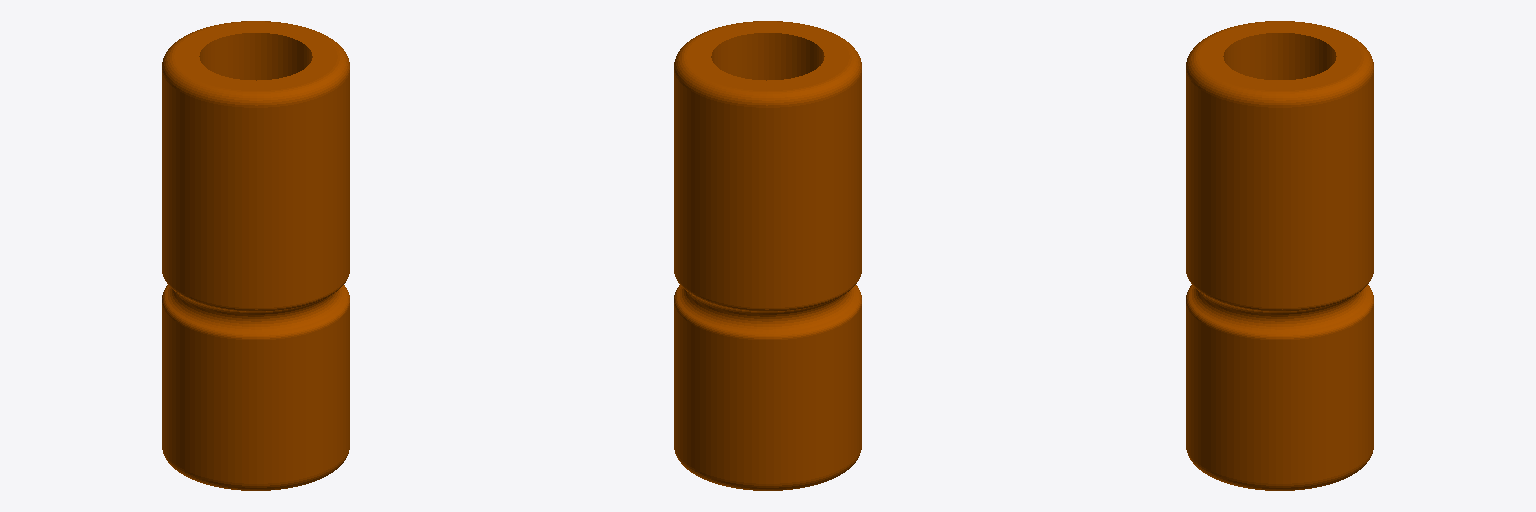
Rendered from grand-rond-trou-jaune.obj.
3 views of the same model, side by side, from view 1: azimuth 30°, elevation 25°; view 2: azimuth 150°, elevation 25°; view 3: azimuth 270°, elevation 25° (orthographic).
Parts seen in each view (by area): view 1: quarto-pieces.012; view 2: quarto-pieces.012; view 3: quarto-pieces.012.
Boxes of the visible parts, <box> form: quarto-pieces.012: <box>162,21,349,490</box>; quarto-pieces.012: <box>674,21,861,490</box>; quarto-pieces.012: <box>1186,21,1373,490</box>.
Bounding box in the file's own units: 29.98 × 70 × 29.98.